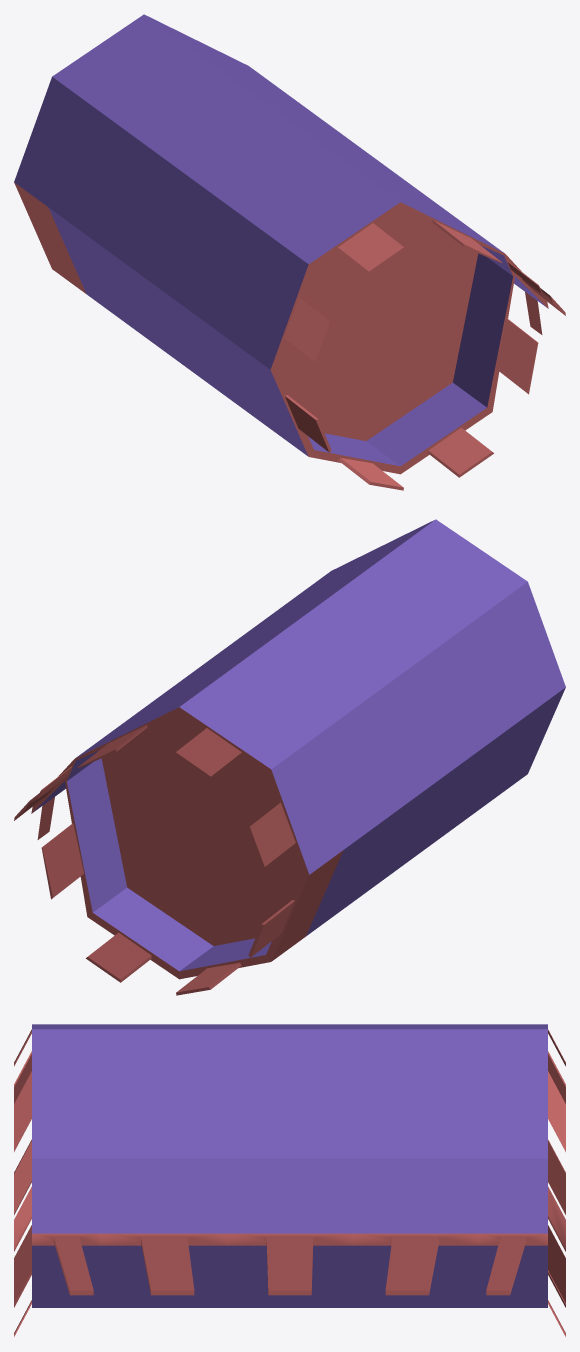
Rendered from Tela.fbx.
3 views of the same model, one above another, from view 1: azimuth 30°, elevation 25°; view 2: azimuth 150°, elevation 25°; view 3: azimuth 270°, elevation 25° (orthographic).
Visible parts, largest first — view 1: Tela; view 2: Tela; view 3: Tela.
Part boxes in pixels (x1=…): Tela: x1=14, y1=14, x2=565, y2=490; Tela: x1=14, y1=519, x2=565, y2=995; Tela: x1=14, y1=1024, x2=565, y2=1336.
Size of the model in its own units: 22.34 by 20.66 by 36.57.
